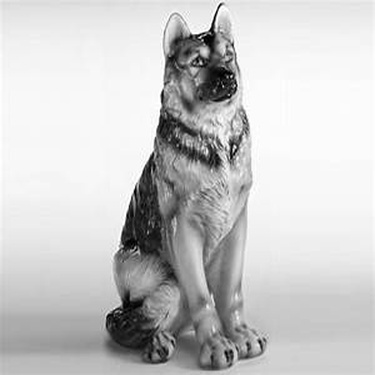dog: (88, 4, 279, 371)
